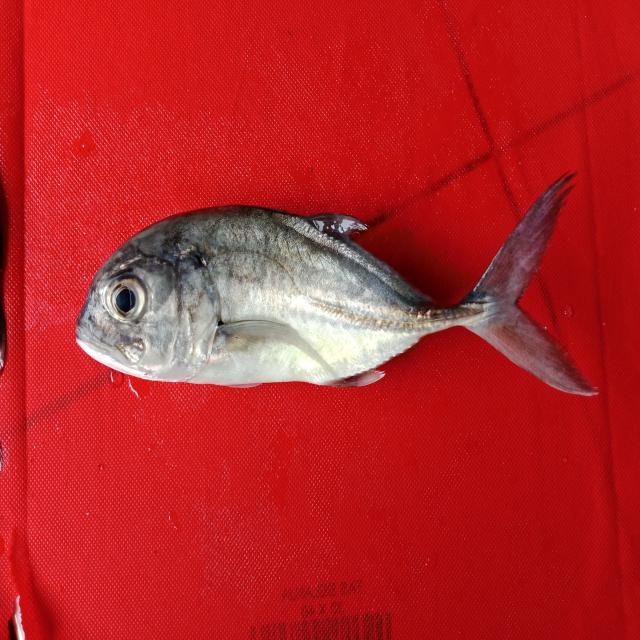ikan: (62, 158, 611, 414)
